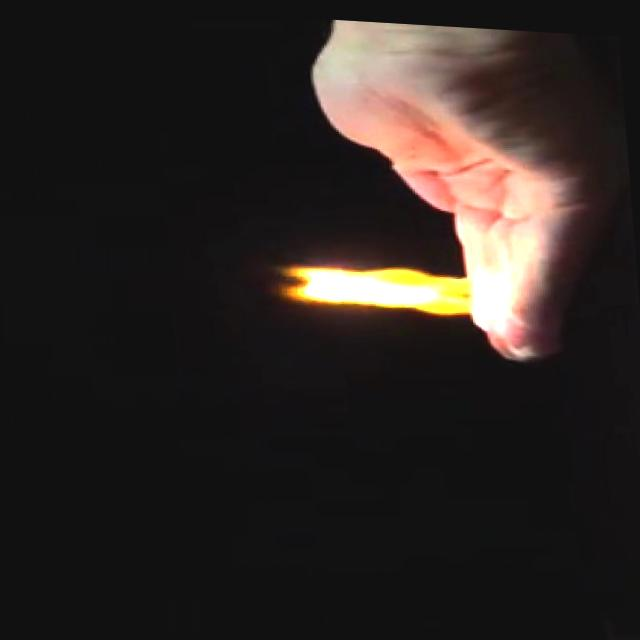helmet: (269, 232, 533, 334)
